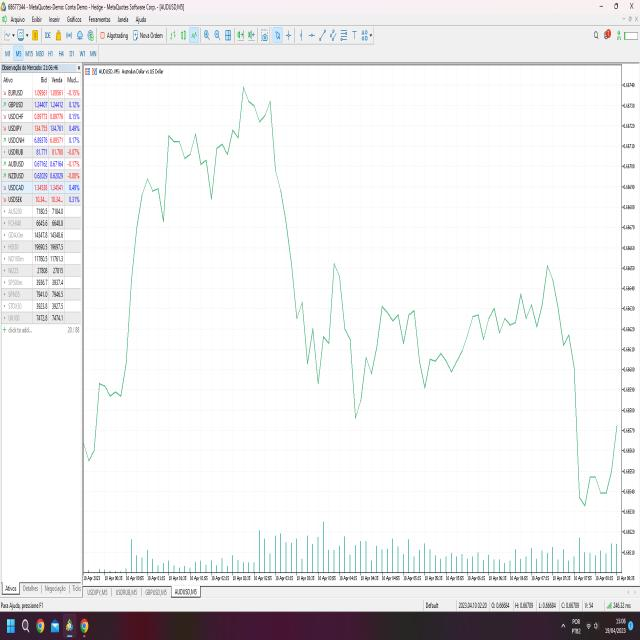fundo_duplo: (558, 420, 615, 520), (286, 293, 338, 394)
